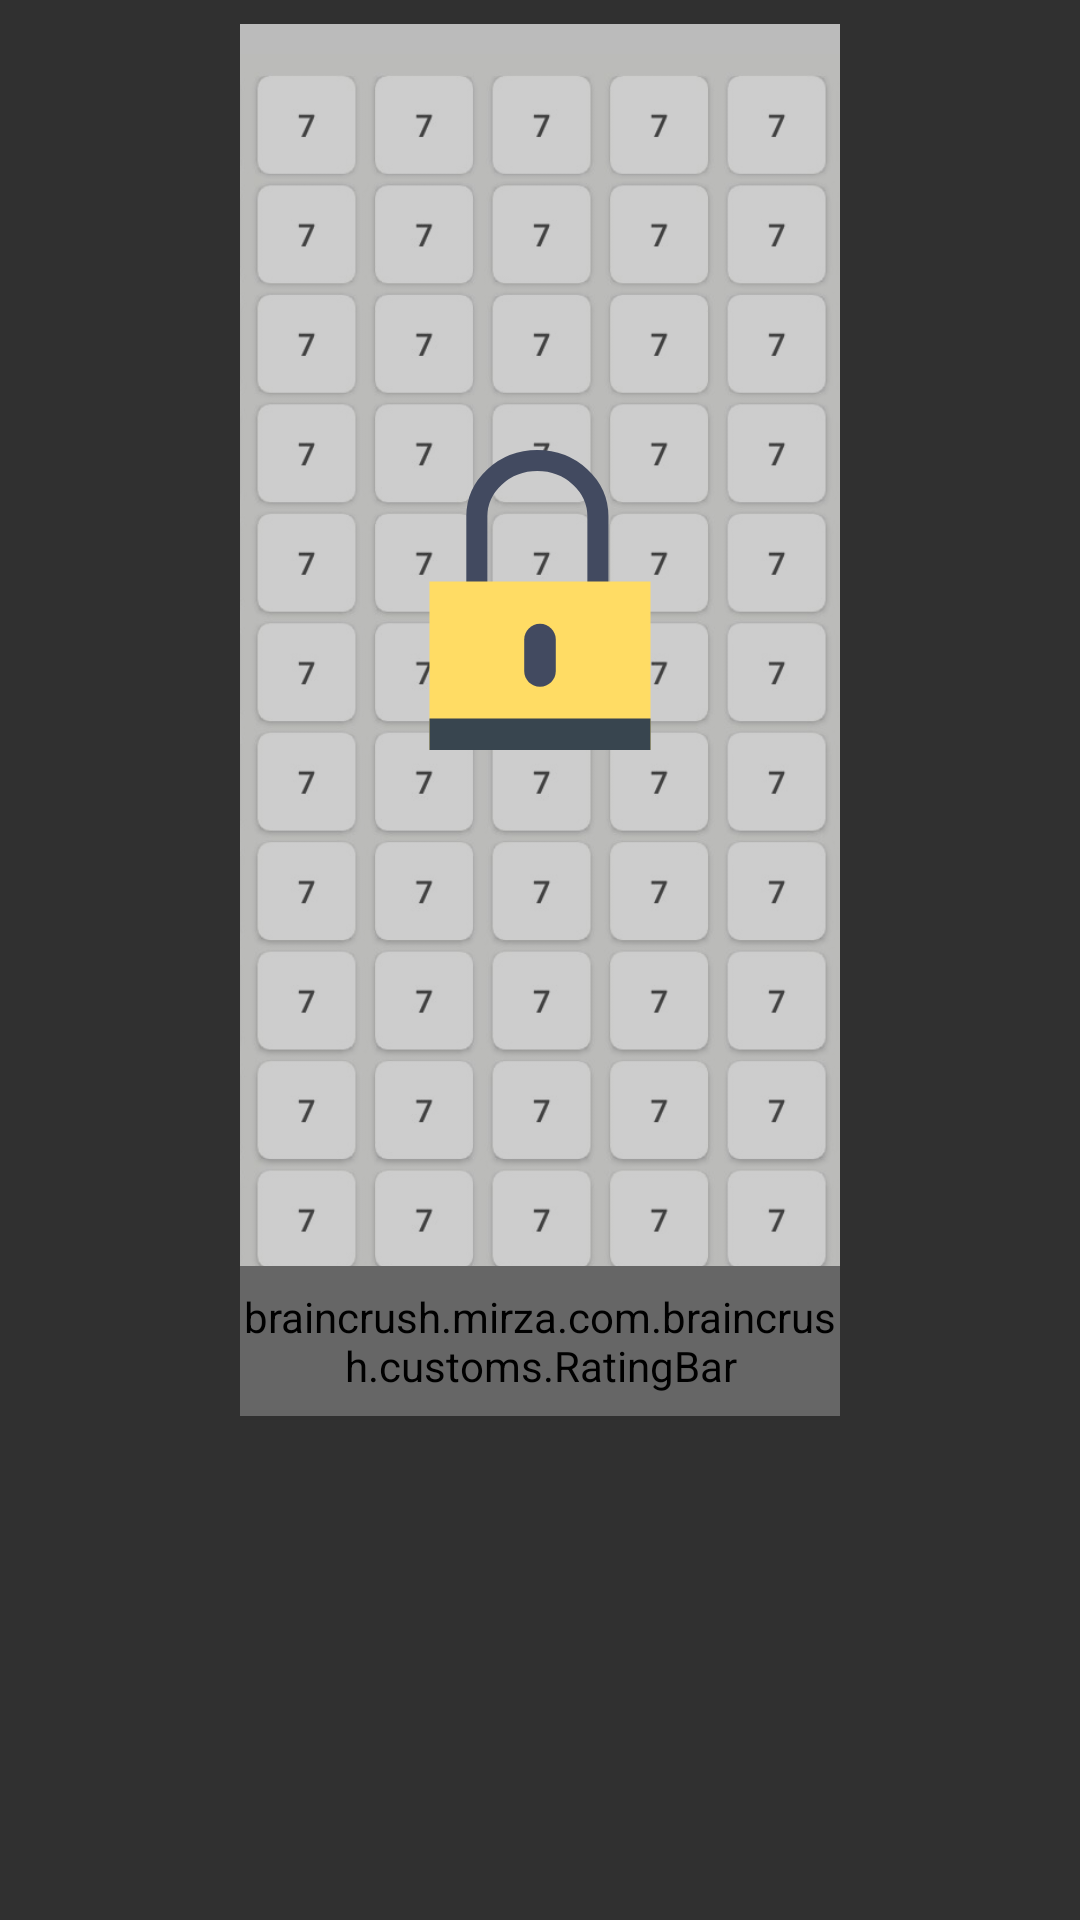

Screen size 1080x1920. Icon name, then its center in pixels as (x,y):
lock: (540,600)
